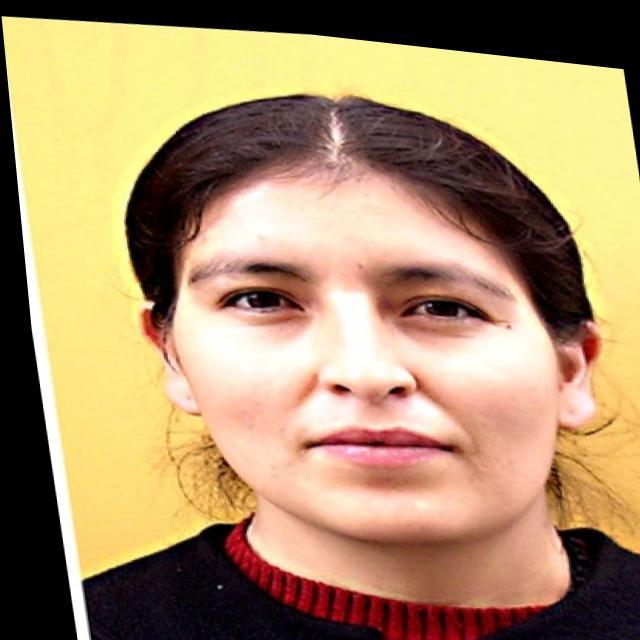Nonhelmet: (120, 89, 613, 546)
